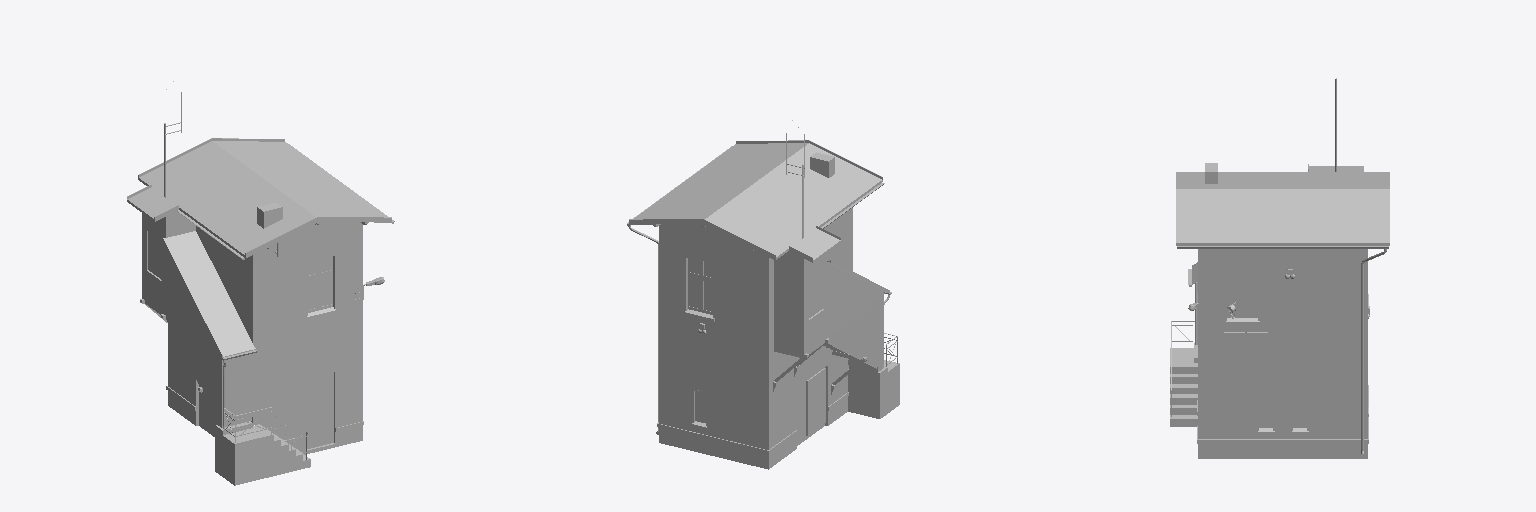
Rendered from trainStation.obj.
The picture shows the model from 3 angles: view 1: azimuth 30°, elevation 25°; view 2: azimuth 150°, elevation 25°; view 3: azimuth 270°, elevation 25°; orthographic projection.
Visible parts, largest first — view 1: kotulin_post57_buda_LOD0; view 2: kotulin_post57_buda_LOD0; view 3: kotulin_post57_buda_LOD0.
Boxes of the visible parts, <box> form: kotulin_post57_buda_LOD0: <box>127,81,394,485</box>; kotulin_post57_buda_LOD0: <box>627,120,899,469</box>; kotulin_post57_buda_LOD0: <box>1170,78,1389,458</box>.
Bounding box in the file's own units: 281 × 525 × 307.